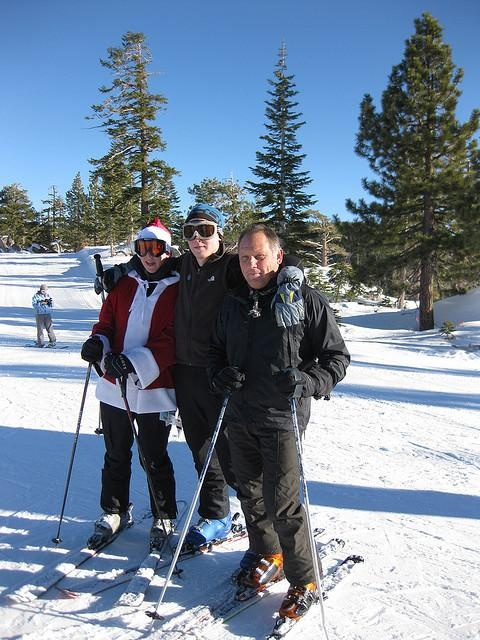person: (207, 225, 355, 621), (171, 197, 277, 554), (79, 219, 188, 555), (29, 283, 60, 348)
